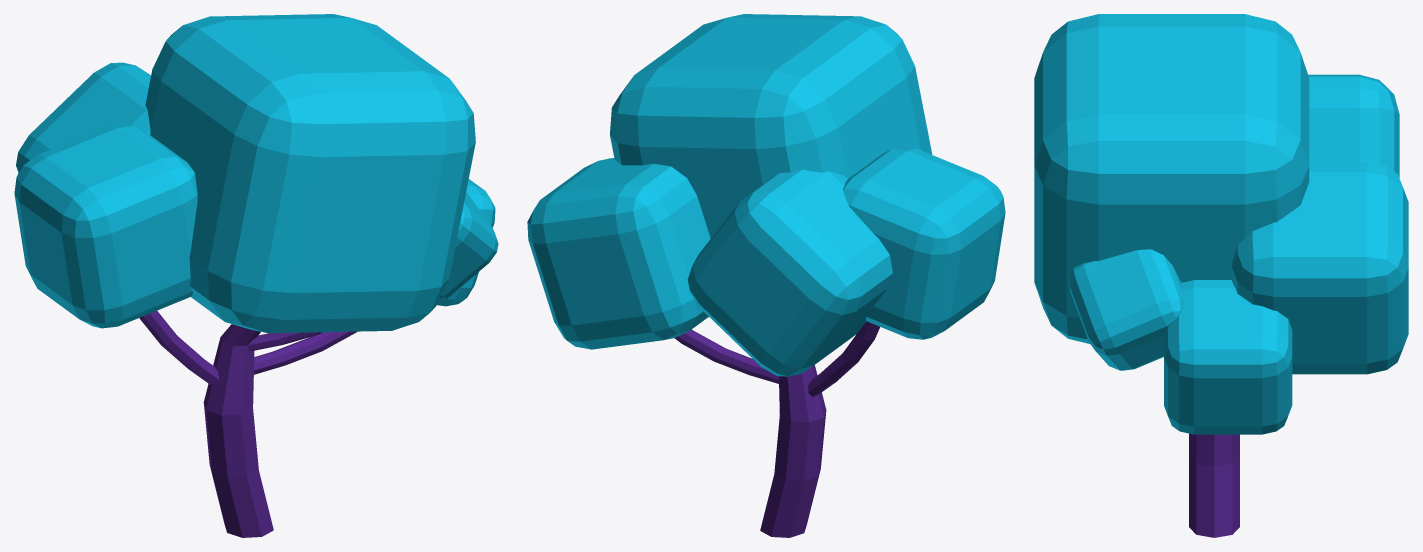
Rendered from Tree005_V2.fbx.
The picture shows the model from 3 angles, left to right: view 1: azimuth 30°, elevation 25°; view 2: azimuth 150°, elevation 25°; view 3: azimuth 270°, elevation 25°; orthographic projection. The views are drawn at different scales.
Visible parts, largest first — view 1: Tree005.001; view 2: Tree005.001; view 3: Tree005.001.
Boxes of the visible parts, left/top/right/bottom form: Tree005.001: left=14, top=14, right=498, bottom=537; Tree005.001: left=527, top=14, right=1005, bottom=537; Tree005.001: left=1034, top=14, right=1408, bottom=537.
Bounding box in the file's own units: 4.83 × 5.21 × 3.55.
